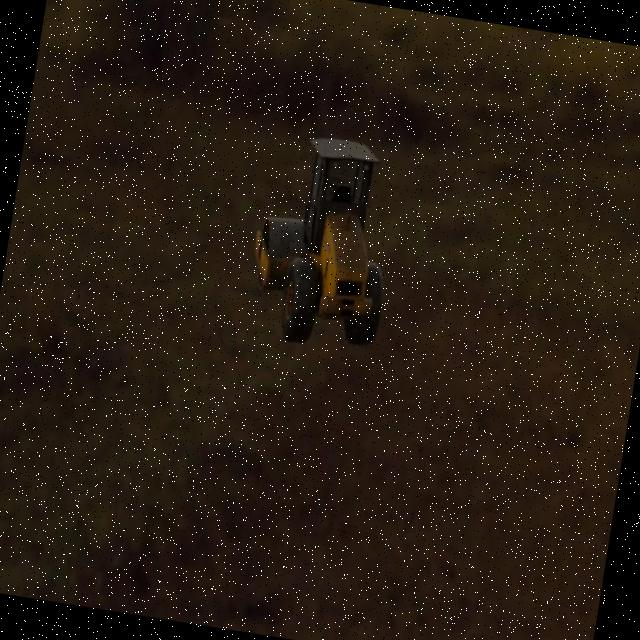Roller: (239, 128, 406, 356)
